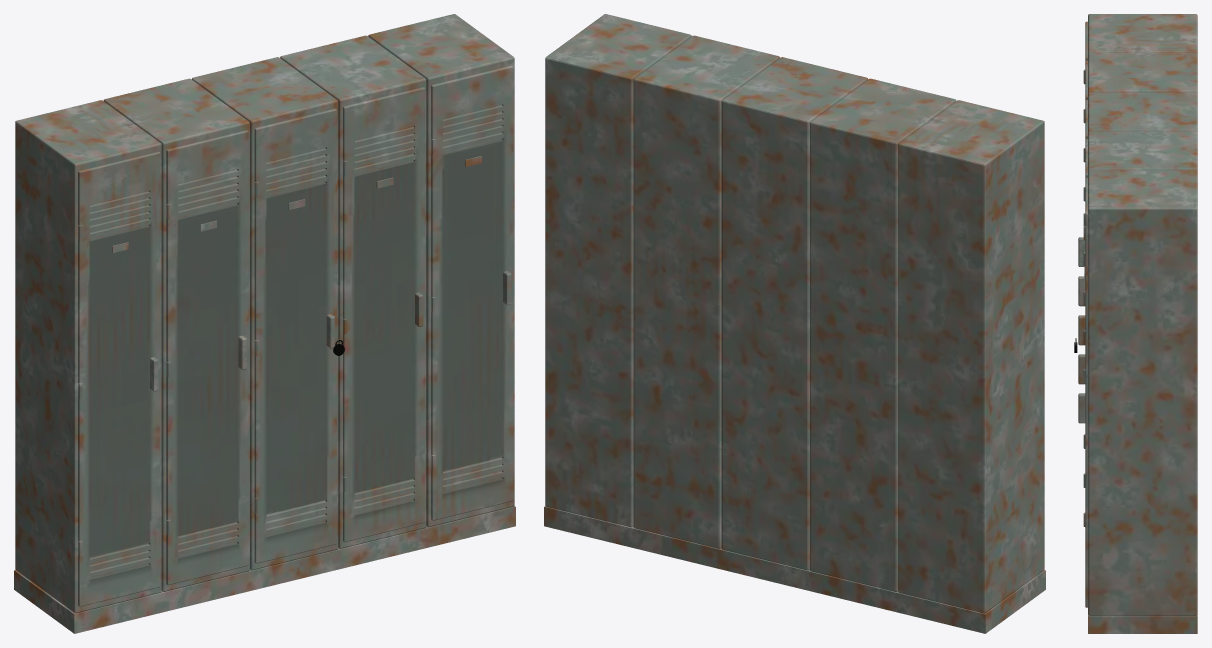
Rendered from lockers.glb.
3 renders of one model, left to right at view 1: azimuth 30°, elevation 25°; view 2: azimuth 150°, elevation 25°; view 3: azimuth 270°, elevation 25°, orthographic. The views are drawn at different scales.
Visible parts, largest first — view 1: Lockers; view 2: Lockers; view 3: Lockers.
Part boxes in pixels (x1,y1,x2,y2): Lockers: (14, 14, 515, 633); Lockers: (544, 14, 1045, 633); Lockers: (1074, 14, 1197, 633).
Size of the model in its own units: 1.9 by 1.93 by 0.506.
2 materials, 2 textured.
